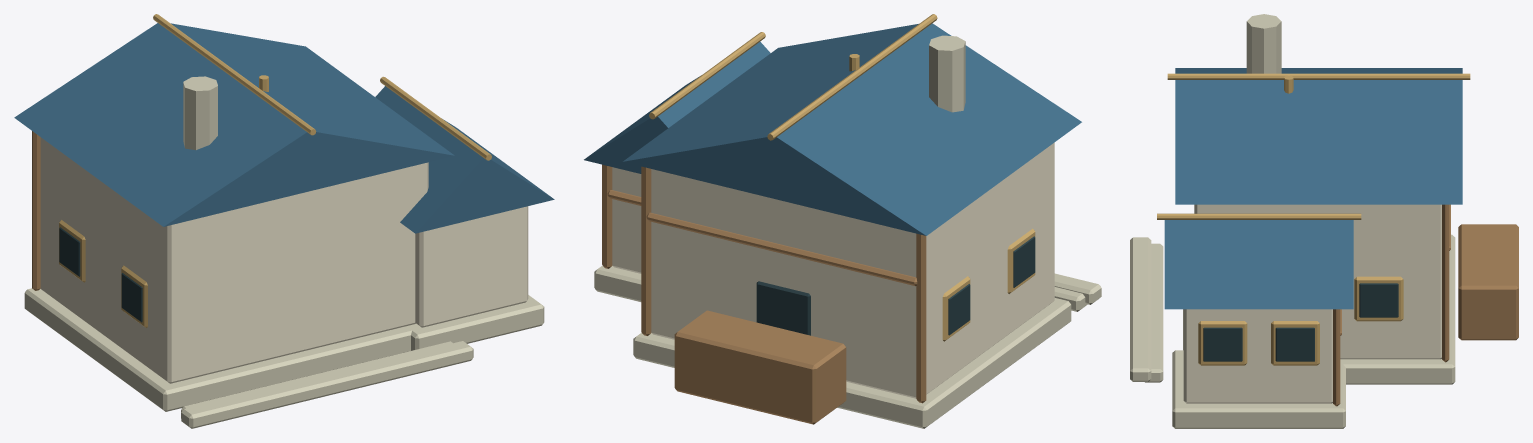
The model's file is level_17.glb.
The picture shows the model from 3 angles, left to right: view 1: azimuth 30°, elevation 25°; view 2: azimuth 150°, elevation 25°; view 3: azimuth 270°, elevation 25°; orthographic projection. The views are drawn at different scales.
Parts seen in each view (by area): view 1: workshop — level 17; view 2: workshop — level 17; view 3: workshop — level 17.
Boxes of the visible parts, left/top/right/bottom form: workshop — level 17: left=14, top=14, right=554, bottom=428; workshop — level 17: left=584, top=14, right=1101, bottom=428; workshop — level 17: left=1130, top=14, right=1518, bottom=428.
Bounding box in the file's own units: 5.67 × 3.93 × 5.14.
